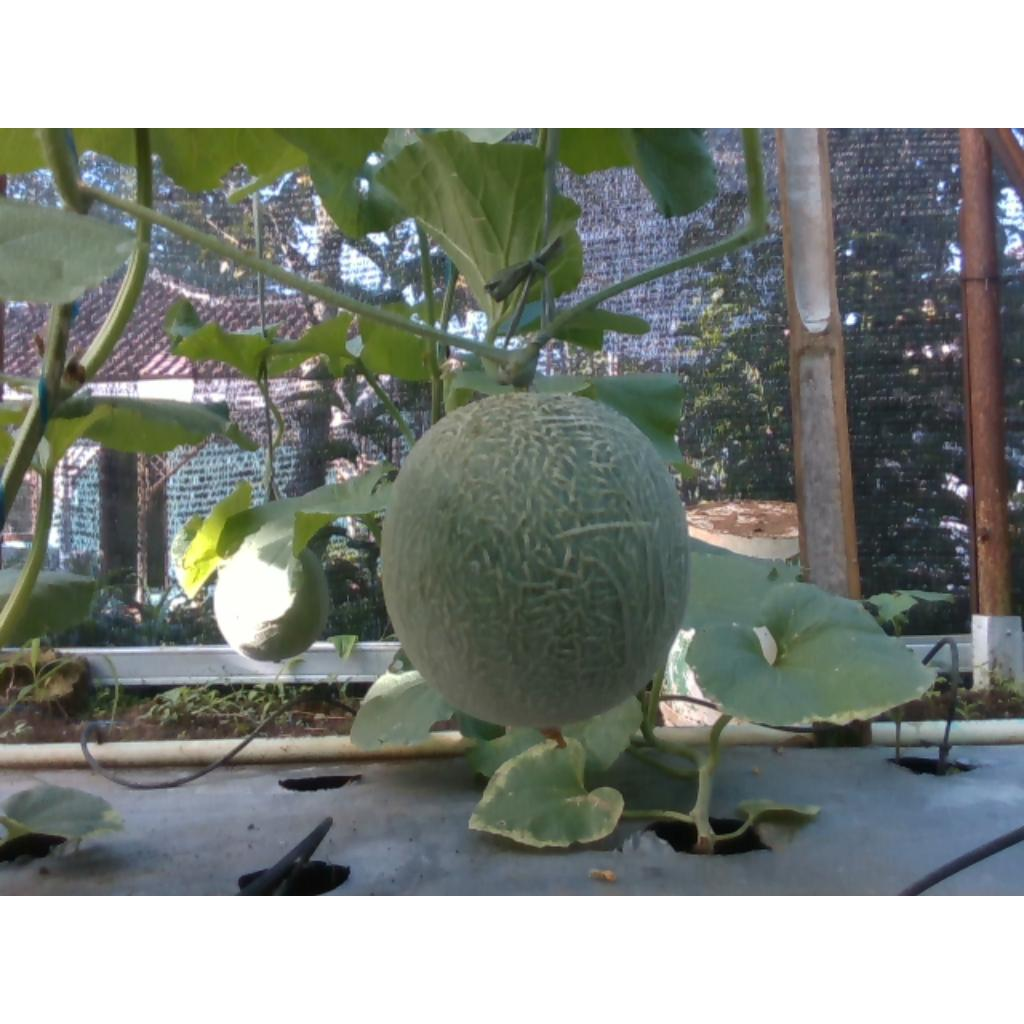melon: (382, 392, 690, 729)
